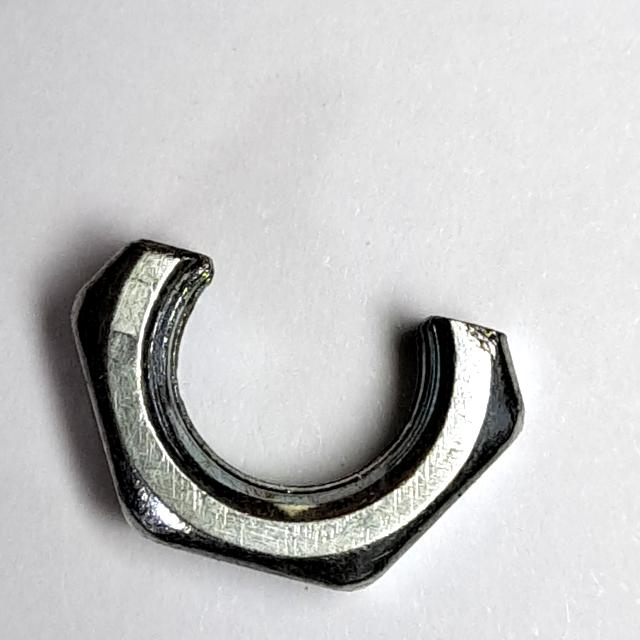Fracture: (59, 226, 541, 609)
